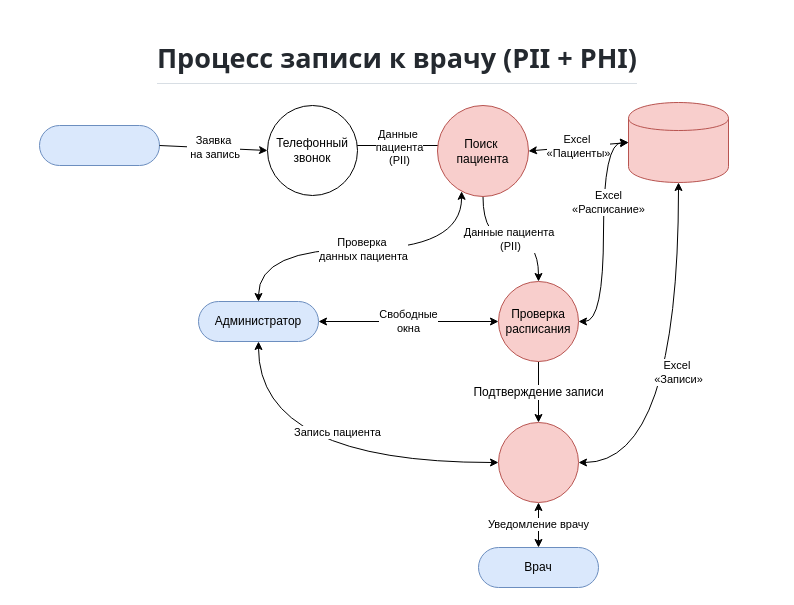
This 794x605 diagram has some shape labels left out. Each missing label, with the centre of its shape:
"общедоступный диск" goes at point 678,142.
"Пациент" goes at point 99,145.
"Создание записи" goes at point 538,462.
